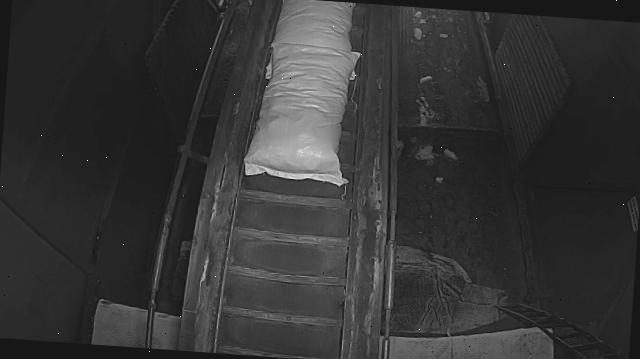bag: (243, 41, 358, 184), (264, 0, 358, 85)
